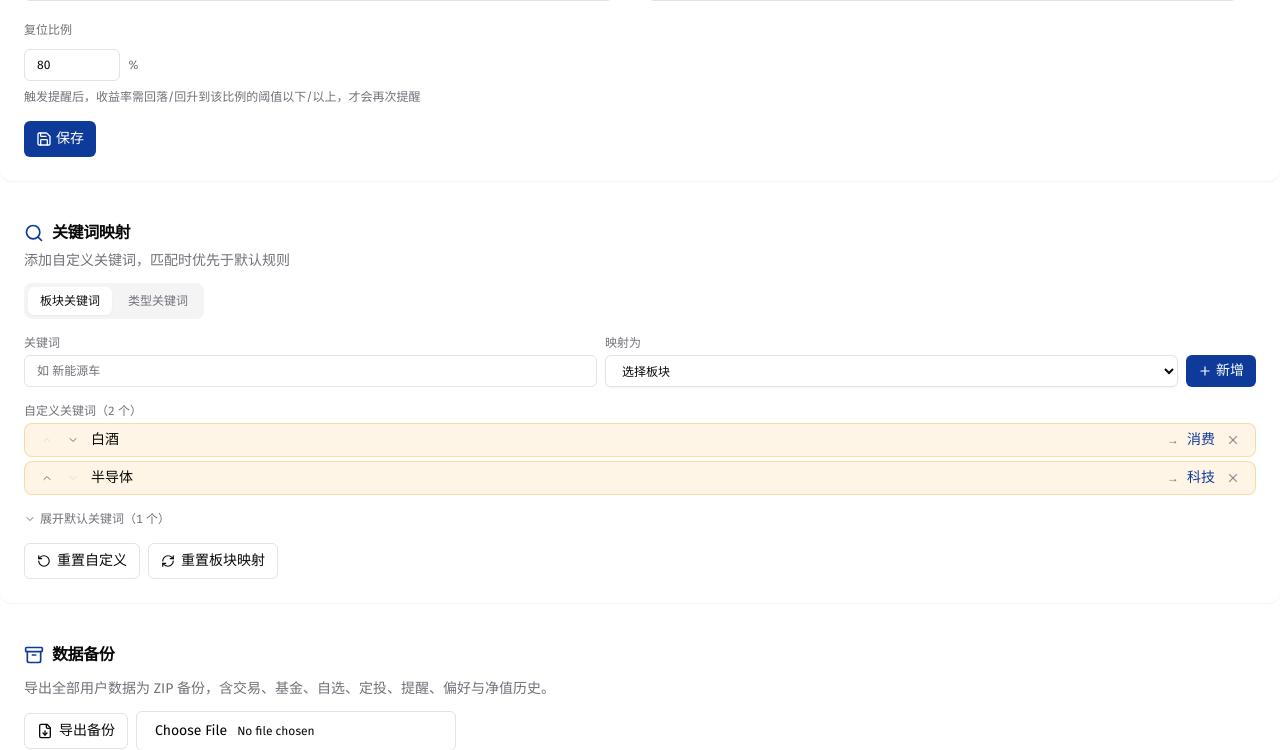
Scenario: Settings 自定义关键词保存失败处理 › 先发起的保存失败不覆盖后续已成功的改动（代际守卫回滚）
(page scrolled)
Expected: the text "关键词映射" is shown, [24,223,130,243]
// A：新增 新能源车（保存在途）
Type "新能源车" into the field with placeholder "如 新能源车". click: point(310, 371)
box: [24,355,597,387]
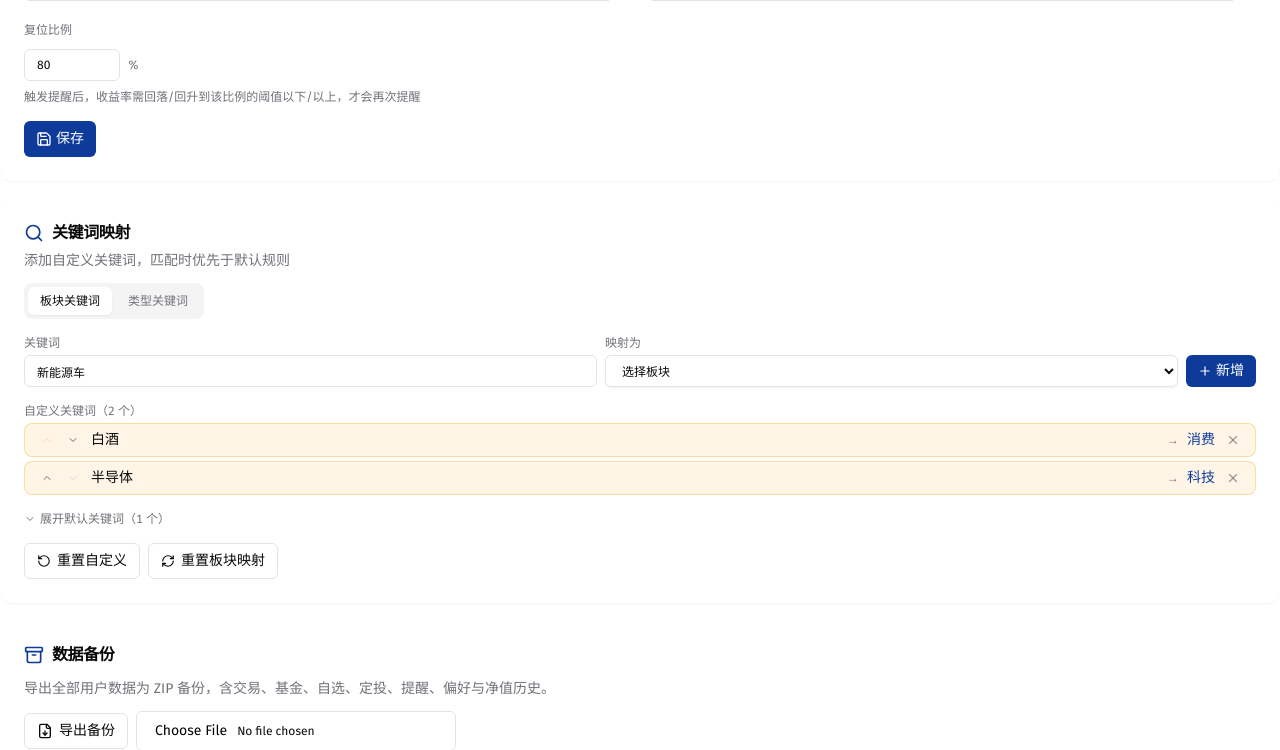
Select "科技" in the dropdown. click: point(892, 371)
box: [605,355,1178,387]
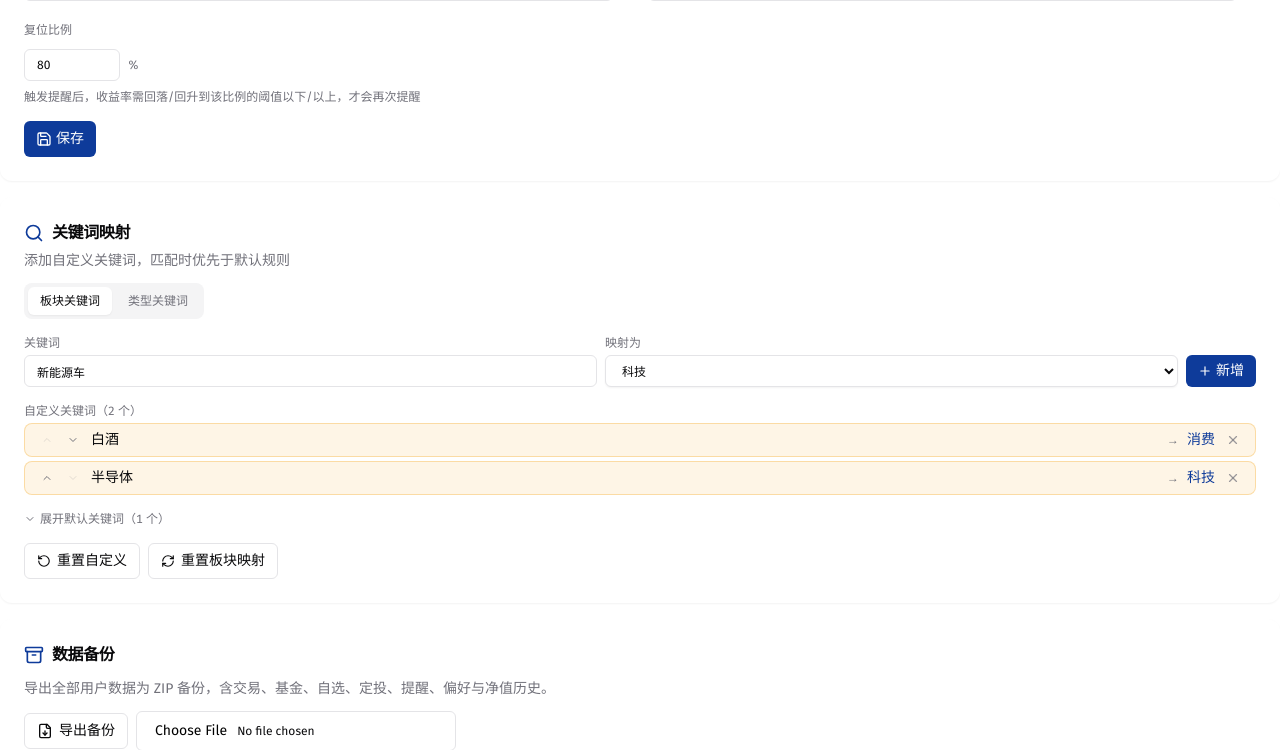
Click the button "新增". click: point(1221, 371)
box: [1186,355,1256,387]
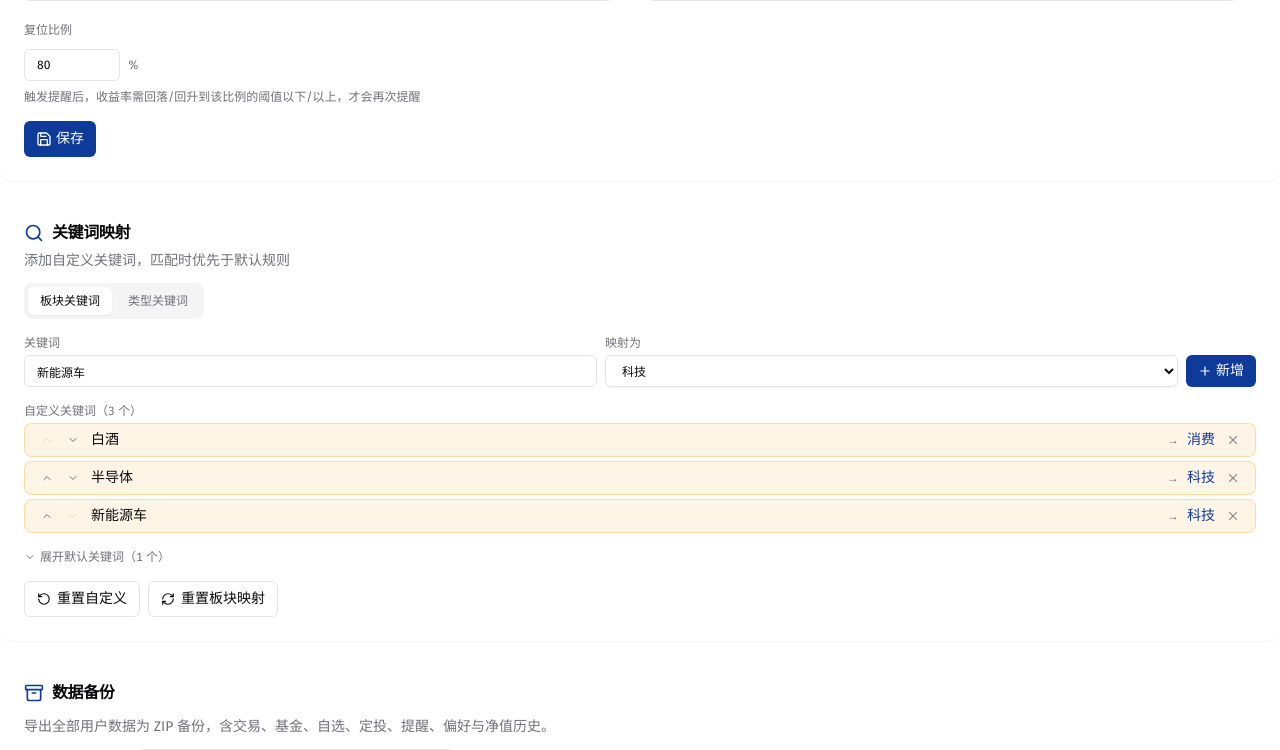
// B：新增 医药（建立在 A 的乐观值之上，ref 已含 新能源车）
Replace the text in the field with placeholder "如 新能源车" with "医药". click: point(310, 371)
box: [24,355,597,387]
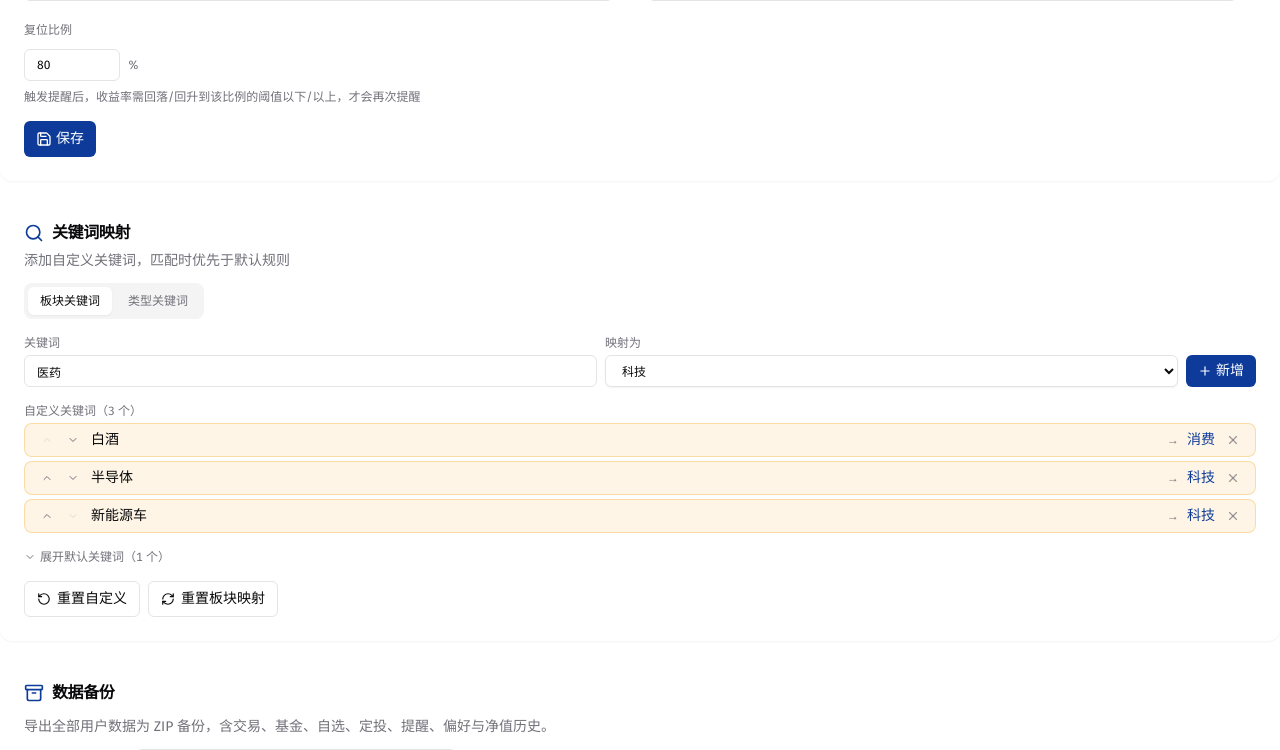
Click the button "新增". click: point(1221, 371)
box: [1186,355,1256,387]
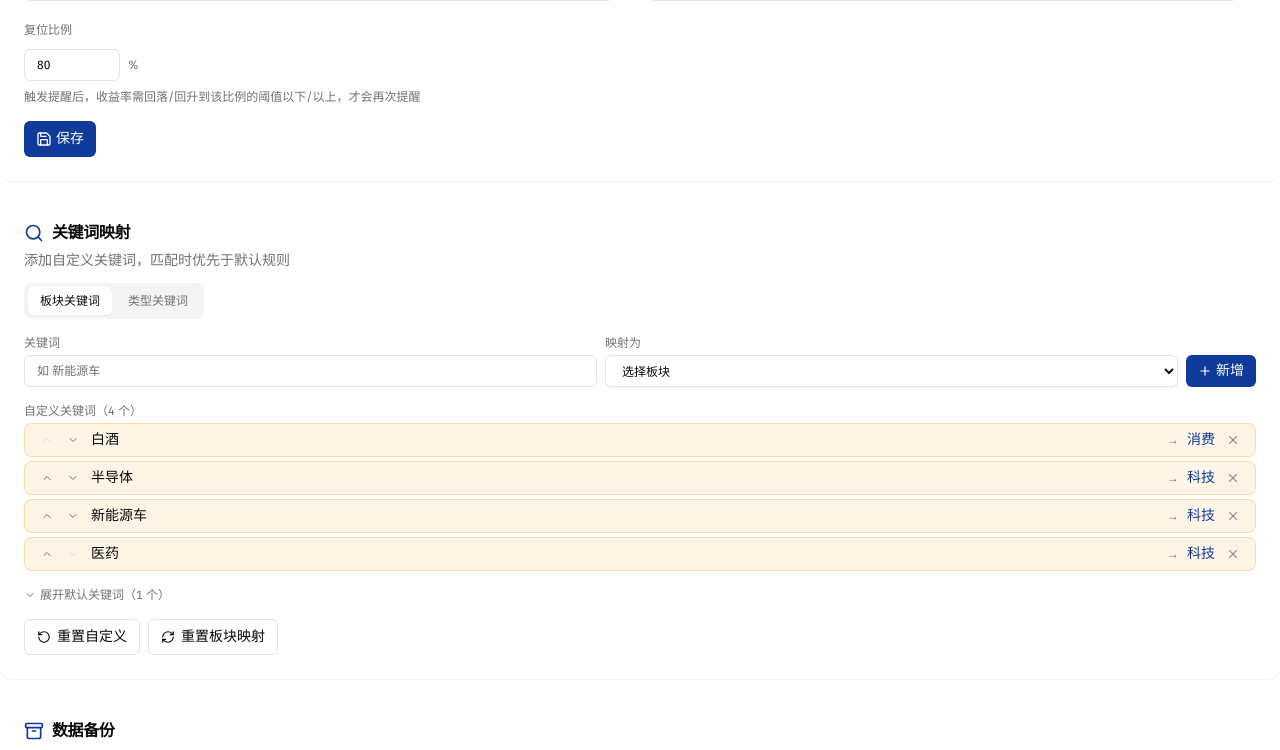
Result: the text "新能源车" is shown at [91,507,147,524]
Result: the text "医药" is shown at [91,545,119,562]
